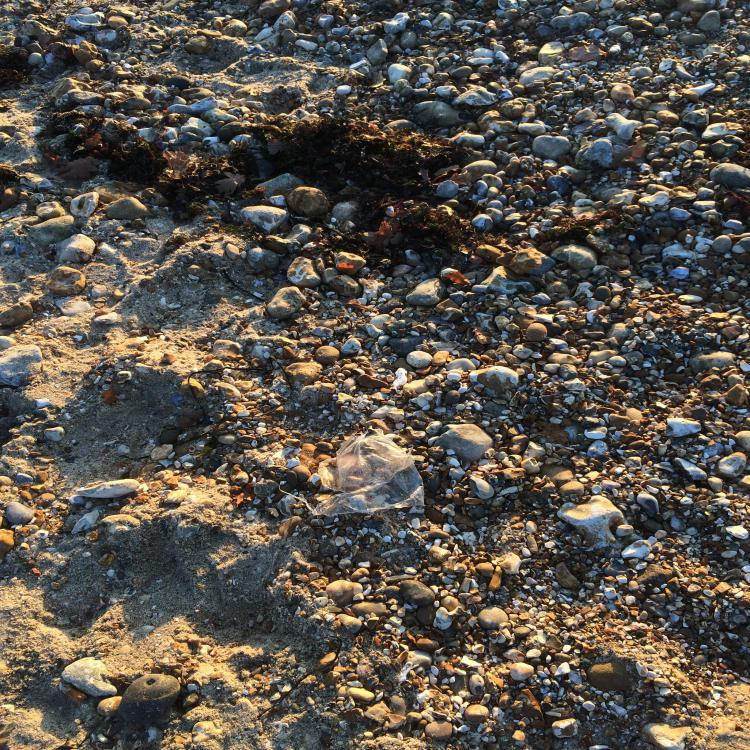Plastic film: (288, 429, 424, 516)
